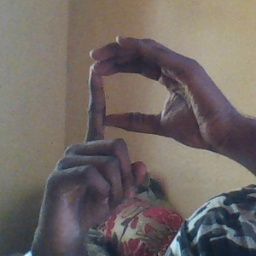P: (52, 30, 204, 217)
